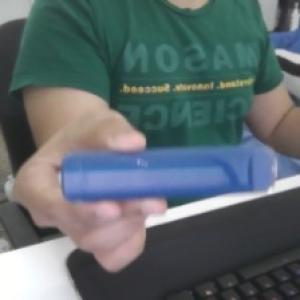Diamond-E-Ciggirate: (56, 142, 282, 204)
